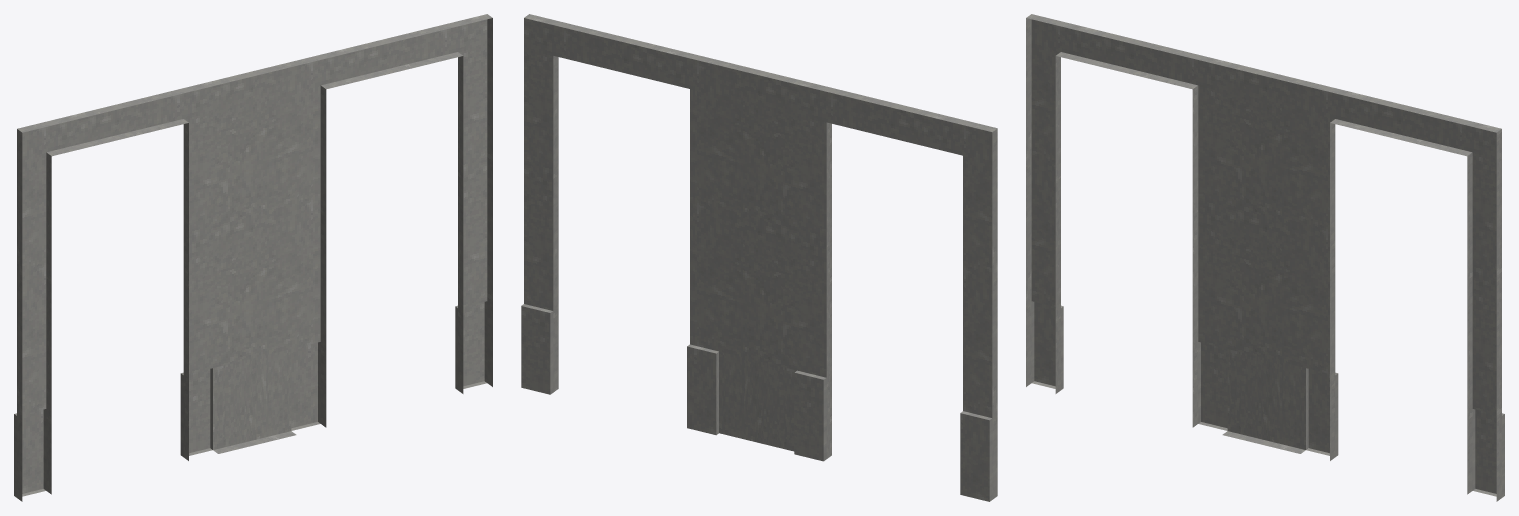
Rendered from GJ_Wall_Trim_04.fbx.
3 renders of one model, left to right at view 1: azimuth 30°, elevation 25°; view 2: azimuth 150°, elevation 25°; view 3: azimuth 330°, elevation 25°, orthographic.
Parts seen in each view (by area): view 1: GJ_Wall_Trim_04; view 2: GJ_Wall_Trim_04; view 3: GJ_Wall_Trim_04.
Part boxes in pixels (x1=…): GJ_Wall_Trim_04: x1=14, y1=14, x2=492, y2=501; GJ_Wall_Trim_04: x1=521, y1=14, x2=997, y2=501; GJ_Wall_Trim_04: x1=1026, y1=14, x2=1504, y2=501.
Bounding box in the file's own units: 300 × 225 × 9.09.
